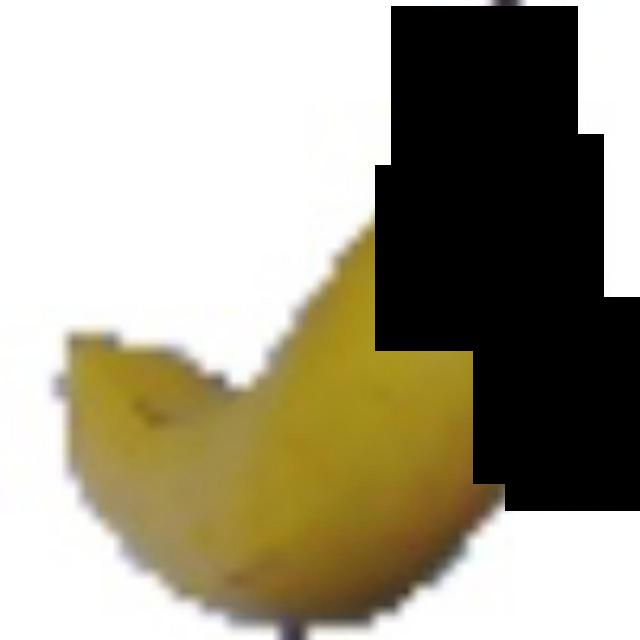banana: (0, 0, 597, 636)
